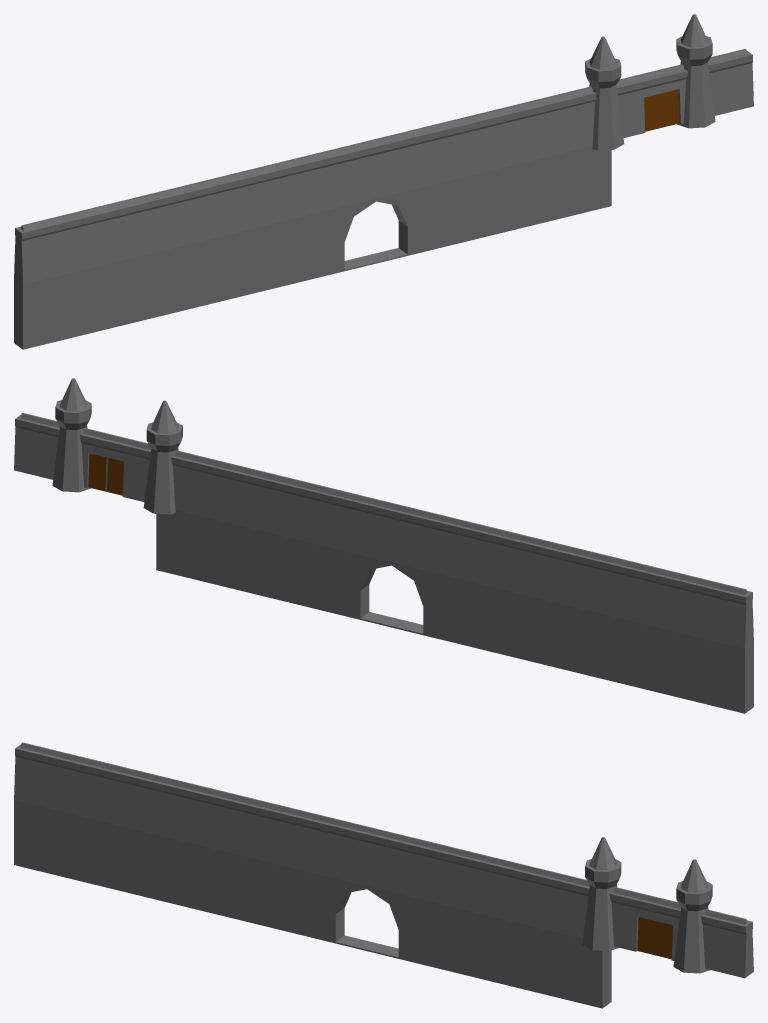
Rendered from Wall.fbx.
3 renders of one model, top to bottom at view 1: azimuth 30°, elevation 25°; view 2: azimuth 150°, elevation 25°; view 3: azimuth 330°, elevation 25°, orthographic.
Parts seen in each view (by area): view 1: Cube.002; view 2: Cube.002; view 3: Cube.002.
Part boxes in pixels (left/top/right/bottom): Cube.002: left=14, top=14, right=753, bottom=349; Cube.002: left=14, top=378, right=753, bottom=713; Cube.002: left=14, top=742, right=753, bottom=1008.
Bounding box in the file's own units: 23268 × 5066 × 1200.
2 materials, 2 textured.
